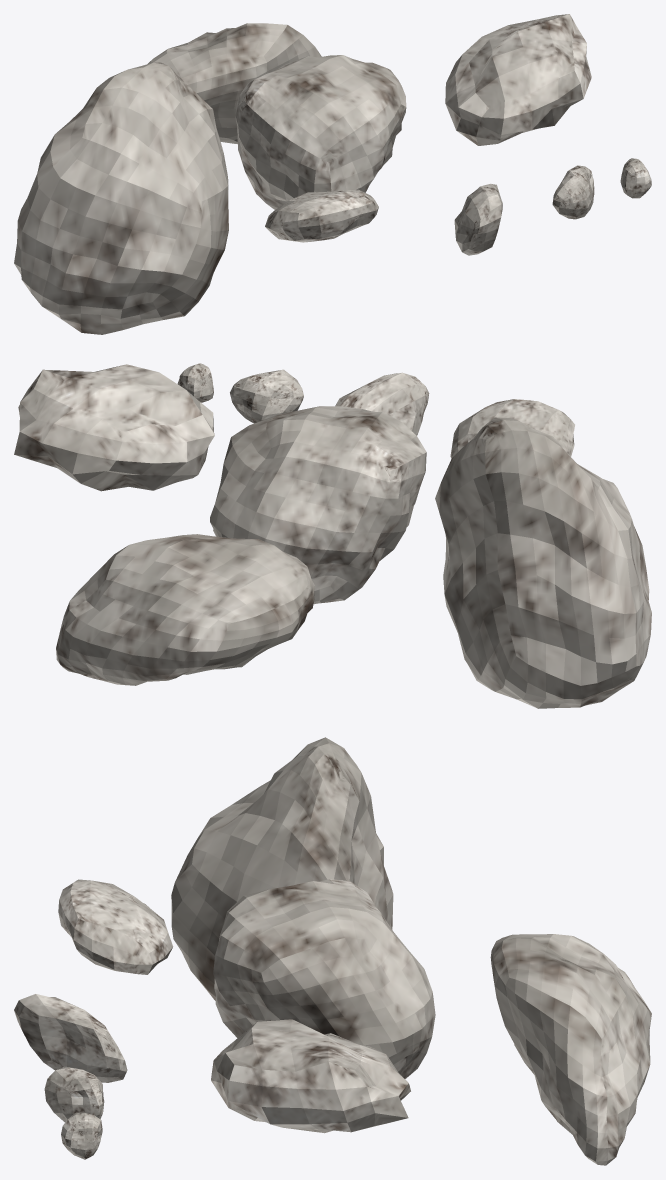
Rendered from Kamienie.fbx.
3 views of the same model, one above another, from view 1: azimuth 30°, elevation 25°; view 2: azimuth 150°, elevation 25°; view 3: azimuth 270°, elevation 25° (orthographic). The views are drawn at different scales.
Visible parts, largest first — view 1: Cube.008, Cube.007, Cube.011, Cube.010, Cube.006, Cube.009, Cube.005, Cube.004; view 2: Cube.008, Cube.010, Cube.007, Cube.011, Cube.006, Cube.009, Cube.005, Cube.004; view 3: Cube.007, Cube.008, Cube.010, Cube.011, Cube.006, Cube.009, Cube.005, Cube.004.
Boxes of the visible parts, x1,y1,x2,y2 form: Cube.008: (14,62,228,334); Cube.007: (235,55,406,209); Cube.011: (445,14,591,145); Cube.010: (147,23,321,144); Cube.006: (265,189,378,242); Cube.009: (454,183,502,255); Cube.005: (552,165,594,219); Cube.004: (620,158,651,198); Cube.008: (435,417,651,708); Cube.010: (56,534,314,685); Cube.007: (210,406,426,604); Cube.011: (14,364,214,491); Cube.006: (450,399,574,458); Cube.009: (335,372,429,435); Cube.005: (230,369,303,423); Cube.004: (177,363,213,402); Cube.007: (213,879,435,1078); Cube.008: (171,737,393,1000); Cube.010: (490,934,651,1165); Cube.011: (211,1019,410,1133); Cube.006: (58,879,173,974); Cube.009: (14,994,127,1082); Cube.005: (44,1066,104,1122); Cube.004: (61,1112,102,1159).
Size of the model in its own units: 2242 by 944 by 1858.
